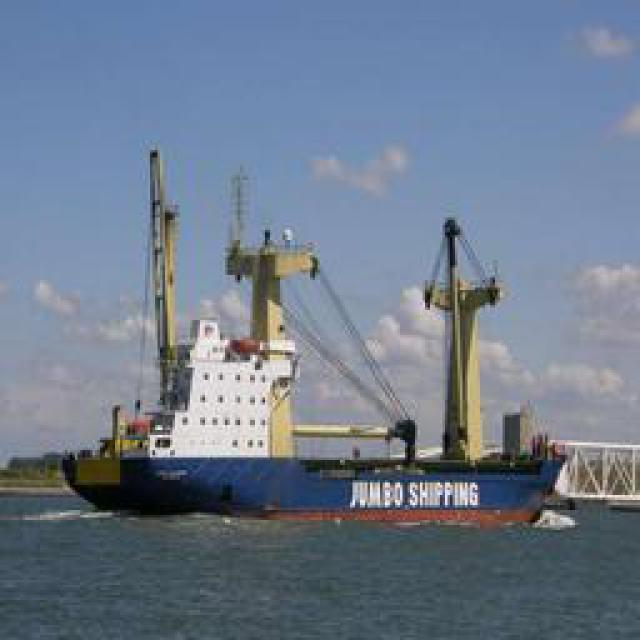Ship: (58, 171, 566, 519)
